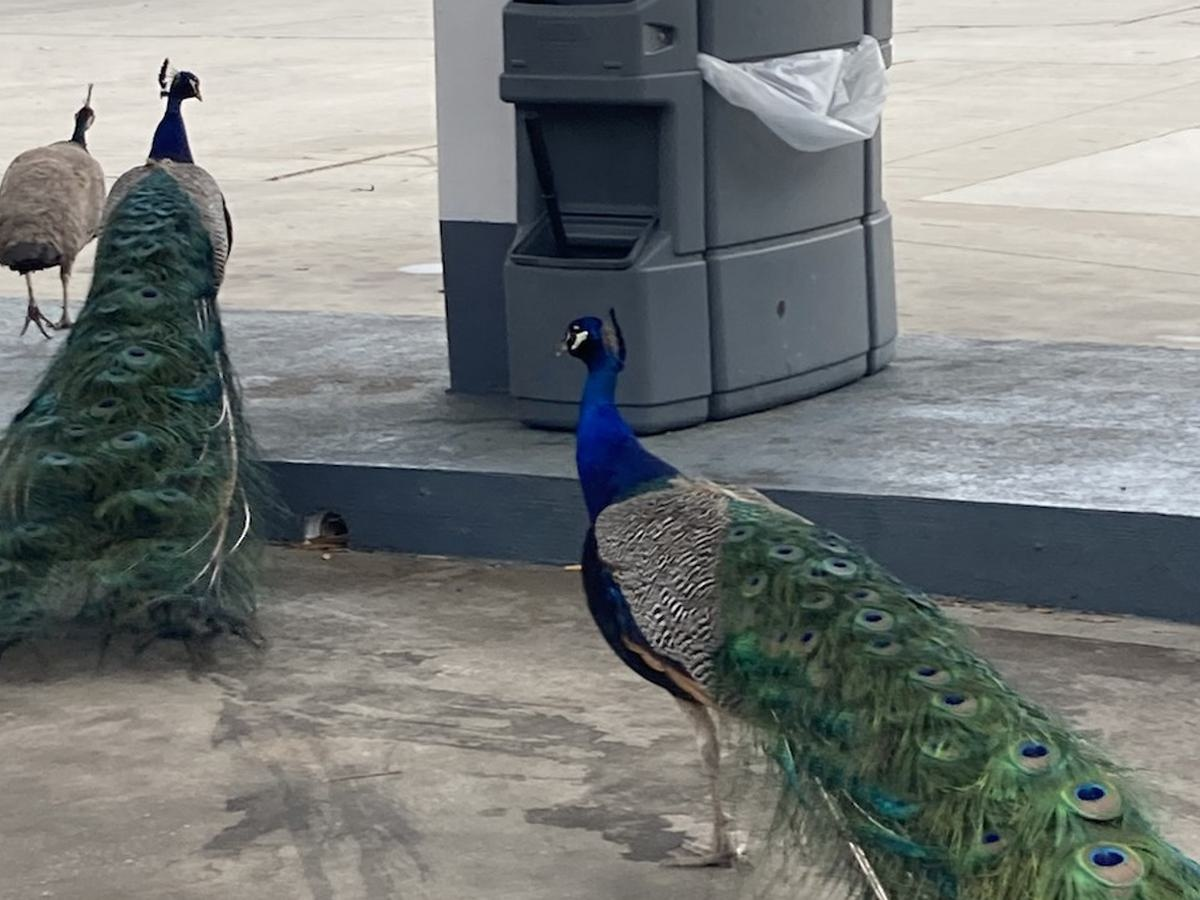peacock: (471, 282, 1200, 900), (37, 42, 250, 686)
